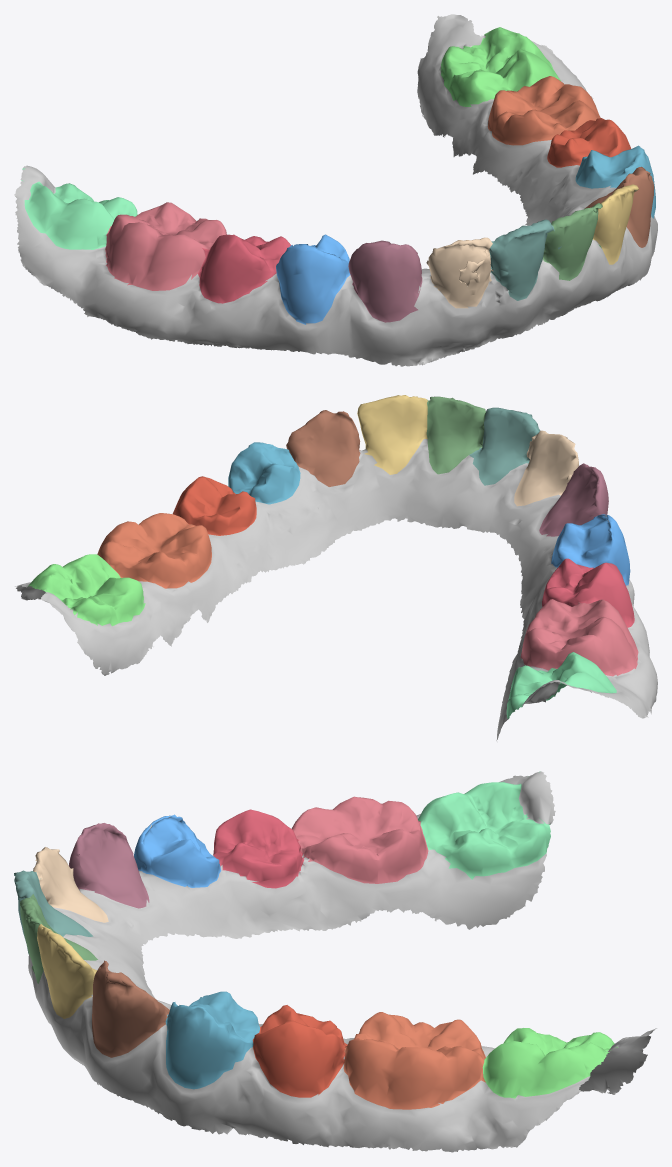
Rendered from ID10005_LOWER.obj.
3 views of the same model, one above another, from view 1: azimuth 30°, elevation 25°; view 2: azimuth 150°, elevation 25°; view 3: azimuth 270°, elevation 25° (orthographic). The views are drawn at different scales.
Parts seen in each view (by area): view 1: pred_ID10005_UPPER; view 2: pred_ID10005_UPPER; view 3: pred_ID10005_UPPER.
Boxes of the visible parts, <box> form: pred_ID10005_UPPER: <box>14,14,657,366</box>; pred_ID10005_UPPER: <box>15,395,657,740</box>; pred_ID10005_UPPER: <box>14,771,656,1152</box>.
Bounding box in the file's own units: 66.17 × 14.32 × 54.21.
